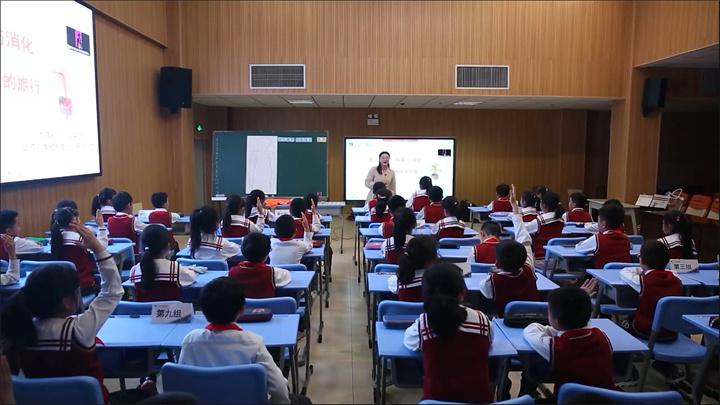bow: (476, 217, 502, 253)
hands-up: (17, 225, 120, 350), (529, 276, 617, 372), (489, 179, 543, 295), (276, 212, 320, 266), (53, 203, 110, 243), (223, 195, 269, 234), (293, 195, 321, 229)
listen: (410, 268, 488, 367), (194, 275, 272, 373), (128, 228, 202, 297), (614, 240, 688, 294), (580, 199, 628, 256)
stand: (407, 171, 436, 210)
